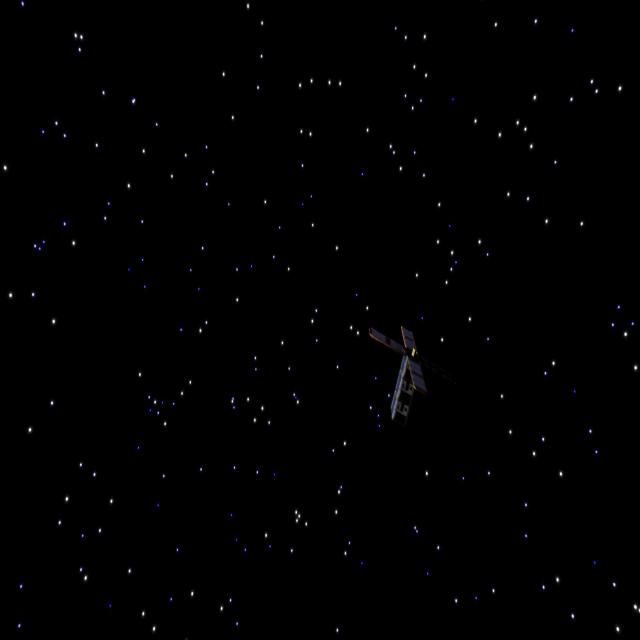medium_debris: (354, 324, 444, 425)
